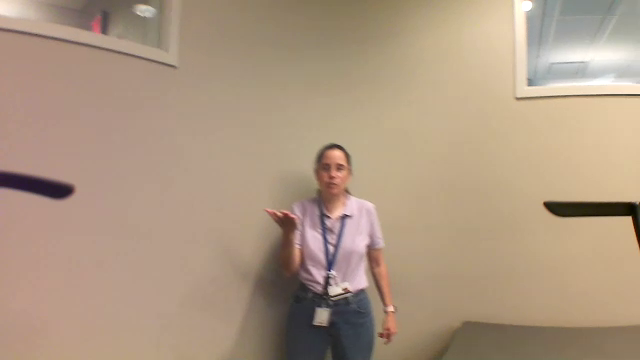land: (254, 196, 300, 237)
